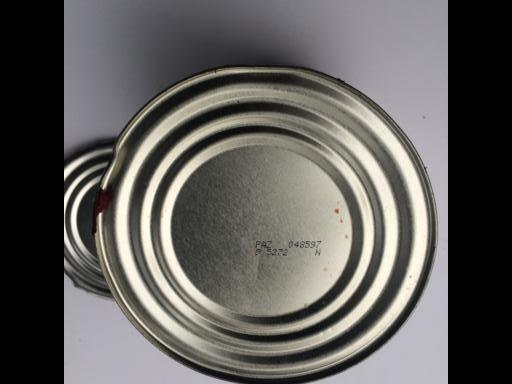metal: (66, 66, 436, 384)
